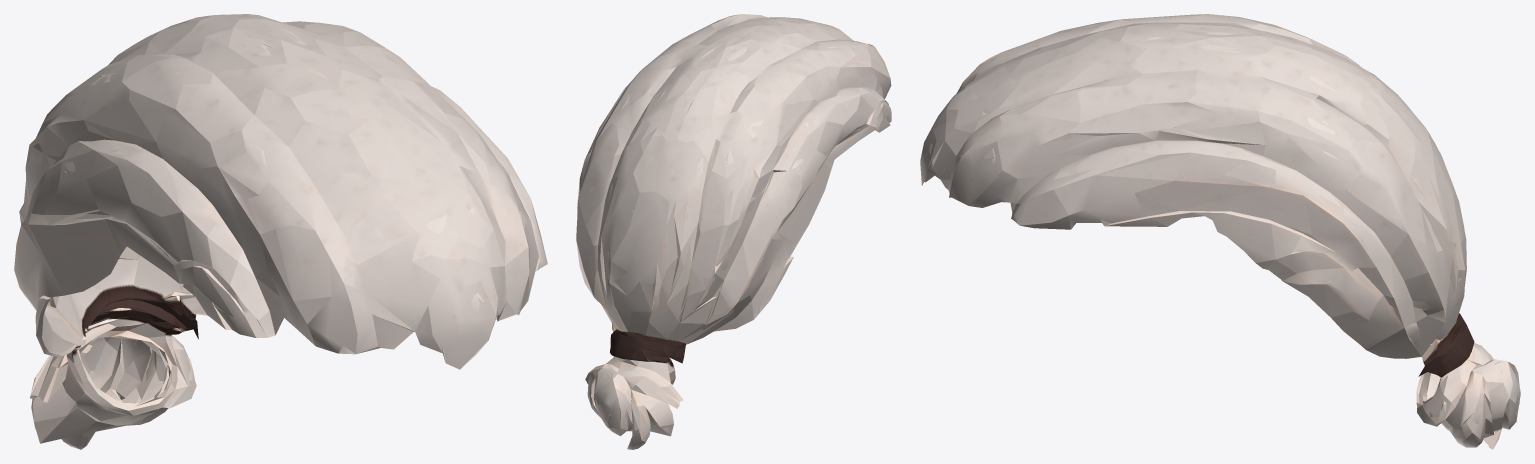
File: thalor_f-chignon-femme-chignon-nuque.glb
3 views of the same model, side by side, from view 1: azimuth 30°, elevation 25°; view 2: azimuth 150°, elevation 25°; view 3: azimuth 270°, elevation 25° (orthographic). The views are drawn at different scales.
Visible parts, largest first — view 1: geometry_0; view 2: geometry_0; view 3: geometry_0.
Boxes of the visible parts, x1=… form: geometry_0: x1=14, y1=14, x2=547, y2=449; geometry_0: x1=576, y1=14, x2=891, y2=449; geometry_0: x1=920, y1=14, x2=1520, y2=449.
Size of the model in its own units: 0.9909 by 1.46 by 1.9.
Materials: 1 (1 with a texture image).
